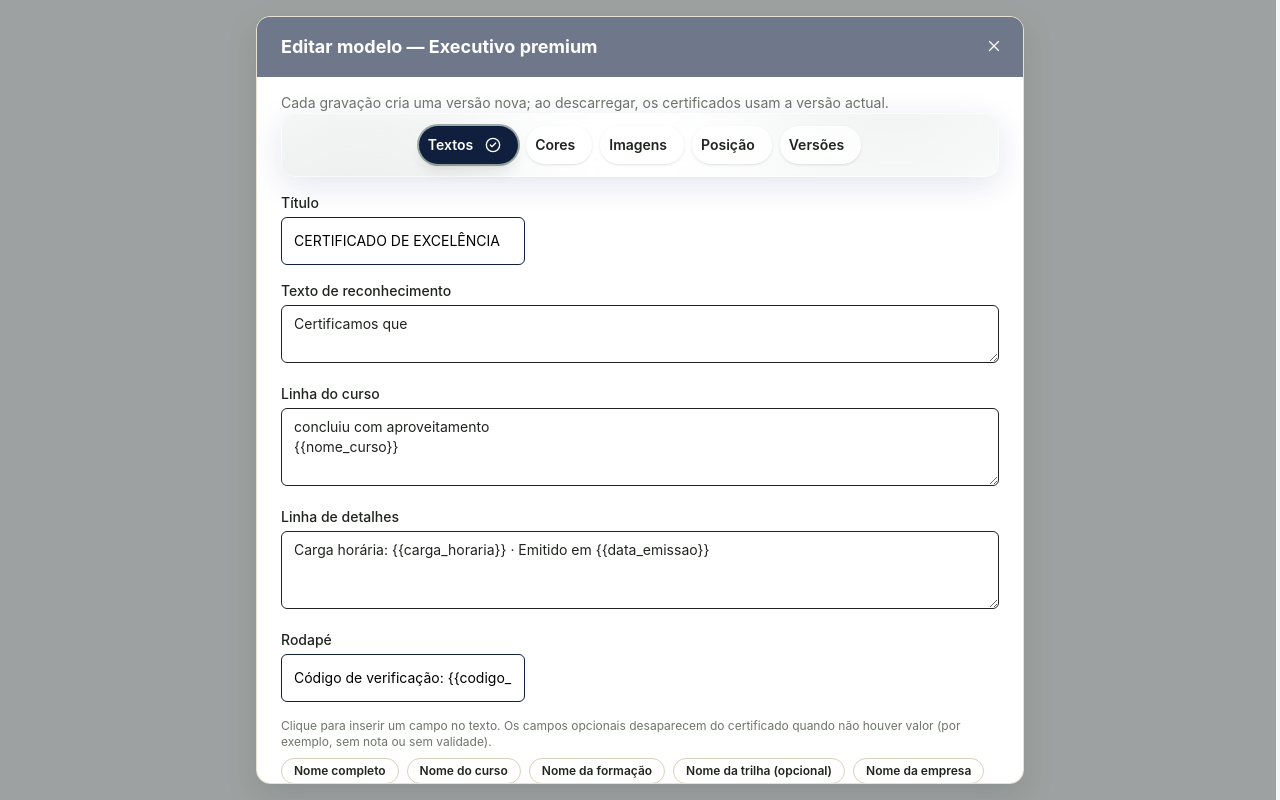
TemplateEditorModal › versões: número, data e autor
Click the tab "Versões" at (820, 145), box x1=780 y1=126 x2=861 y2=164
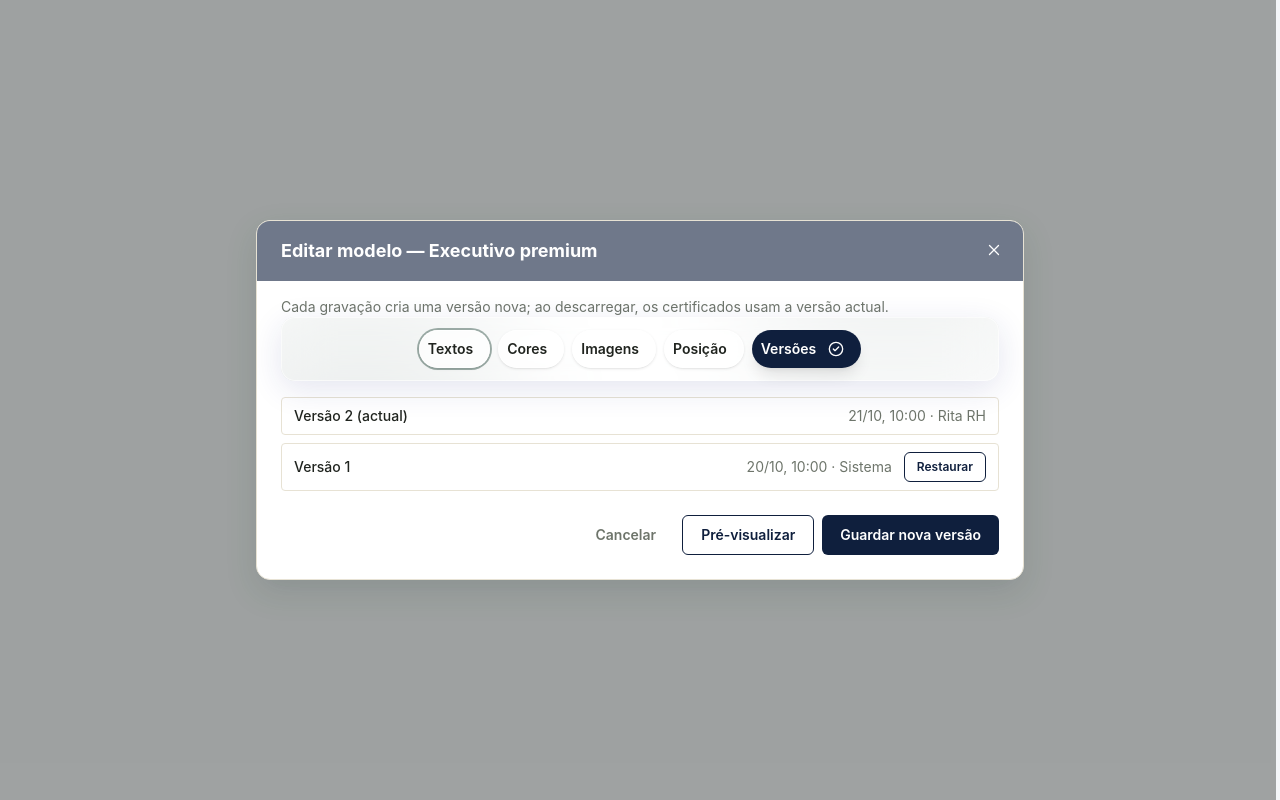
Expected: the text "Versão 2 (actual)" is shown, x1=294 y1=406 x2=408 y2=426
Expected: the text "21/10, 10:00 · Rita RH" is shown, x1=848 y1=406 x2=986 y2=426
Expected: the text "Versão 1" is shown, x1=294 y1=457 x2=350 y2=477
